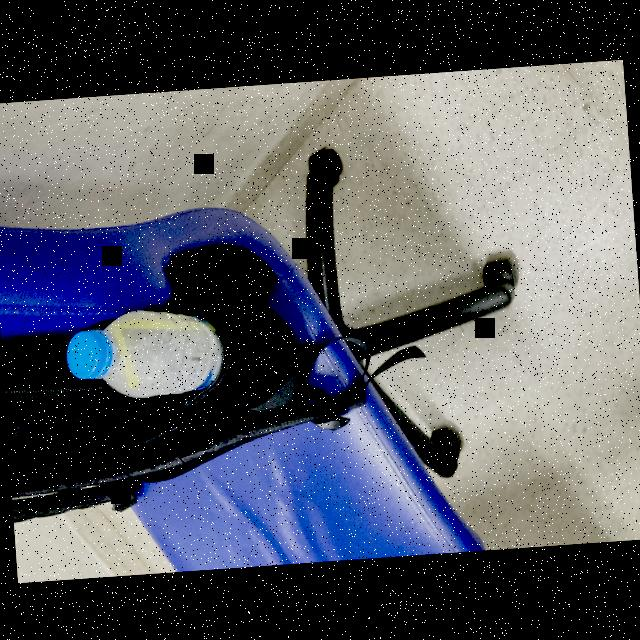plastic_bottle: (59, 300, 231, 403)
plastic_bottle_cap: (62, 327, 116, 379)
straw: (110, 309, 218, 386)
